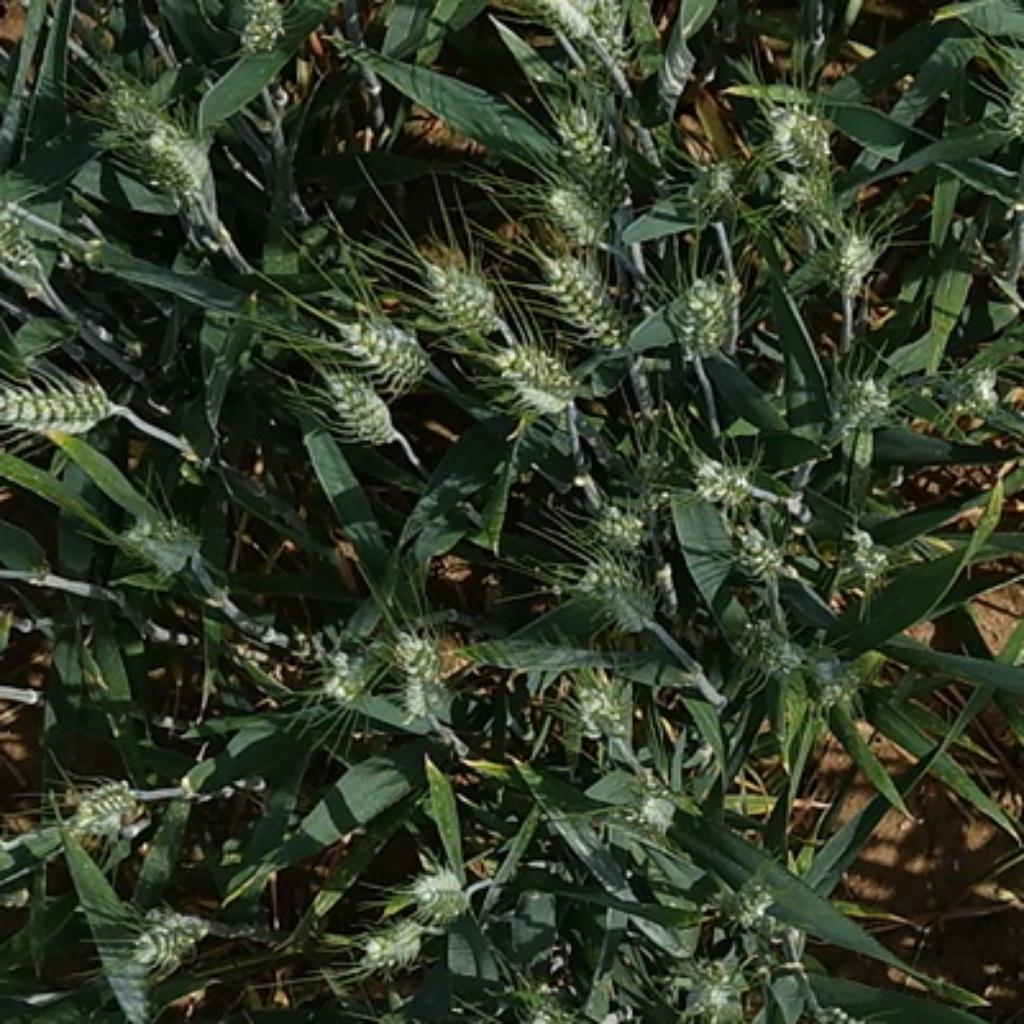0-0: (94, 71, 216, 175), (540, 89, 629, 222), (7, 363, 128, 453), (532, 243, 627, 343), (660, 261, 752, 363), (537, 184, 624, 279), (384, 616, 458, 727), (107, 499, 209, 578), (750, 94, 839, 184), (414, 248, 501, 337), (486, 332, 581, 412), (757, 148, 855, 225), (332, 302, 427, 381), (568, 550, 663, 629), (619, 757, 701, 847), (314, 360, 399, 445), (785, 632, 875, 711), (583, 478, 668, 558), (678, 140, 762, 220), (719, 604, 806, 680), (670, 944, 750, 1024), (819, 358, 901, 435), (678, 442, 765, 514), (806, 217, 885, 296), (721, 509, 798, 588), (353, 903, 435, 975), (65, 773, 145, 845), (137, 904, 218, 974), (575, 2, 641, 84), (727, 855, 791, 939), (565, 670, 634, 743), (401, 857, 476, 924), (826, 524, 898, 593), (218, 0, 289, 69), (319, 638, 388, 707), (940, 358, 1007, 428), (0, 200, 54, 277), (520, 1, 595, 47)
